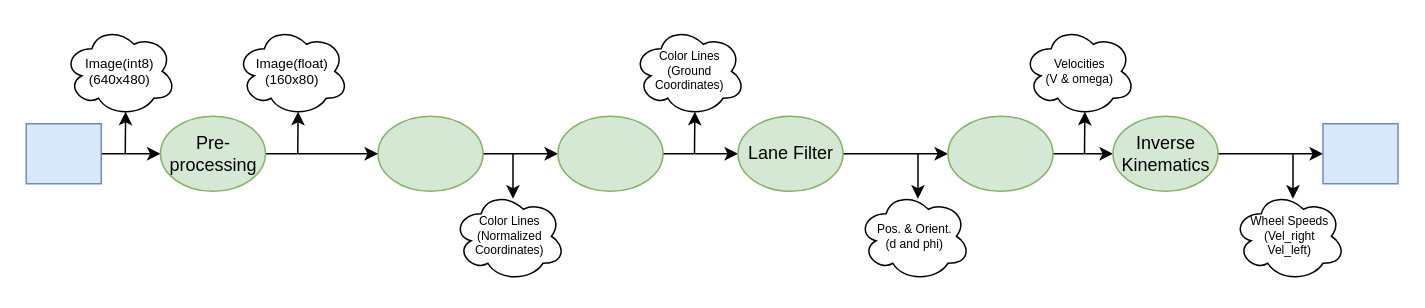
This 1425x308 diagram has some shape labels left out. Each missing label, with the centre of its shape:
Camera Service: the point at 63,153
Drive Service: the point at 1360,153
Ground Projection: the point at 609,153
Lane Controller: the point at 999,153
Line Detection: the point at 429,153
